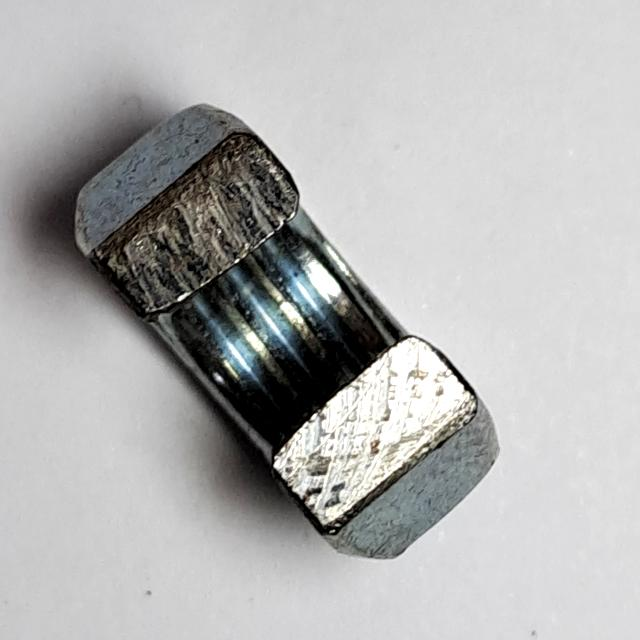Side-Fracture: (57, 81, 516, 579)
